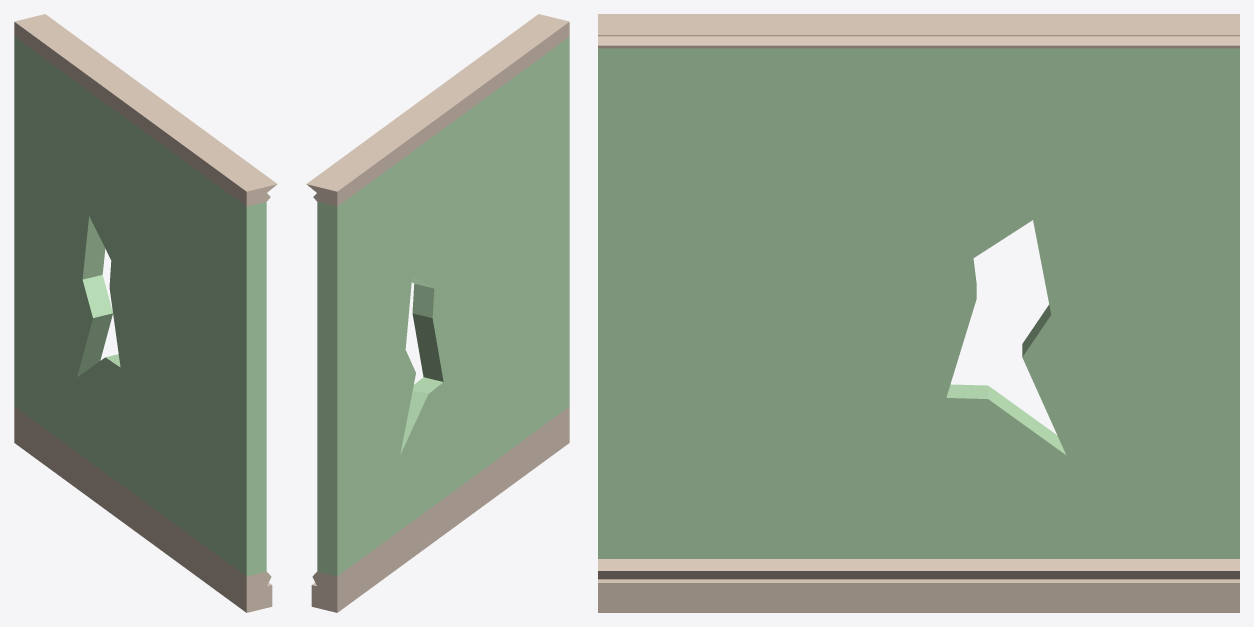
The model's file is Wall_SmallHole7.fbx.
3 views of the same model, side by side, from view 1: azimuth 30°, elevation 25°; view 2: azimuth 150°, elevation 25°; view 3: azimuth 270°, elevation 25° (orthographic). The views are drawn at different scales.
Visible parts, largest first — view 1: Cube; view 2: Cube; view 3: Cube.
Boxes of the visible parts, x1,y1,x2,y2 form: Cube: (14, 14, 277, 612); Cube: (306, 14, 569, 612); Cube: (598, 14, 1239, 612).
Bounding box in the file's own units: 61.8 × 800 × 800.
